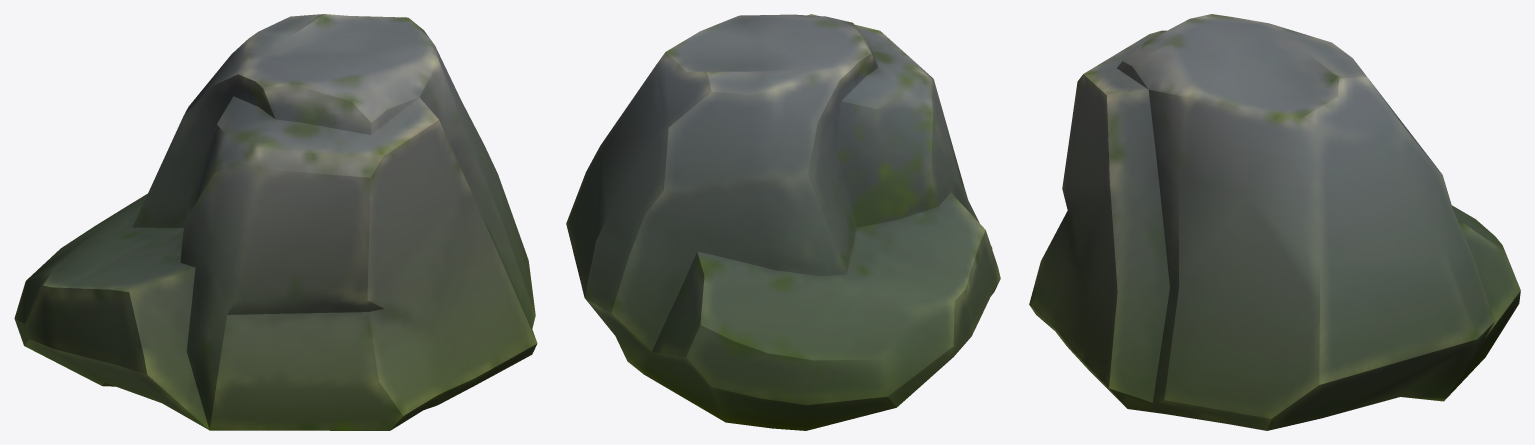
The model's file is Rock_Medium_1.gltf.
The picture shows the model from 3 angles, left to right: view 1: azimuth 30°, elevation 25°; view 2: azimuth 150°, elevation 25°; view 3: azimuth 270°, elevation 25°; orthographic projection. The views are drawn at different scales.
Visible parts, largest first — view 1: Rock_Medium_1; view 2: Rock_Medium_1; view 3: Rock_Medium_1.
Part boxes in pixels (left/top/right/bottom): Rock_Medium_1: left=14, top=14, right=537, bottom=430; Rock_Medium_1: left=566, top=14, right=1000, bottom=430; Rock_Medium_1: left=1029, top=14, right=1520, bottom=430.
Bounding box in the file's own units: 3.23 × 2.26 × 2.99.
1 material, 1 textured.
